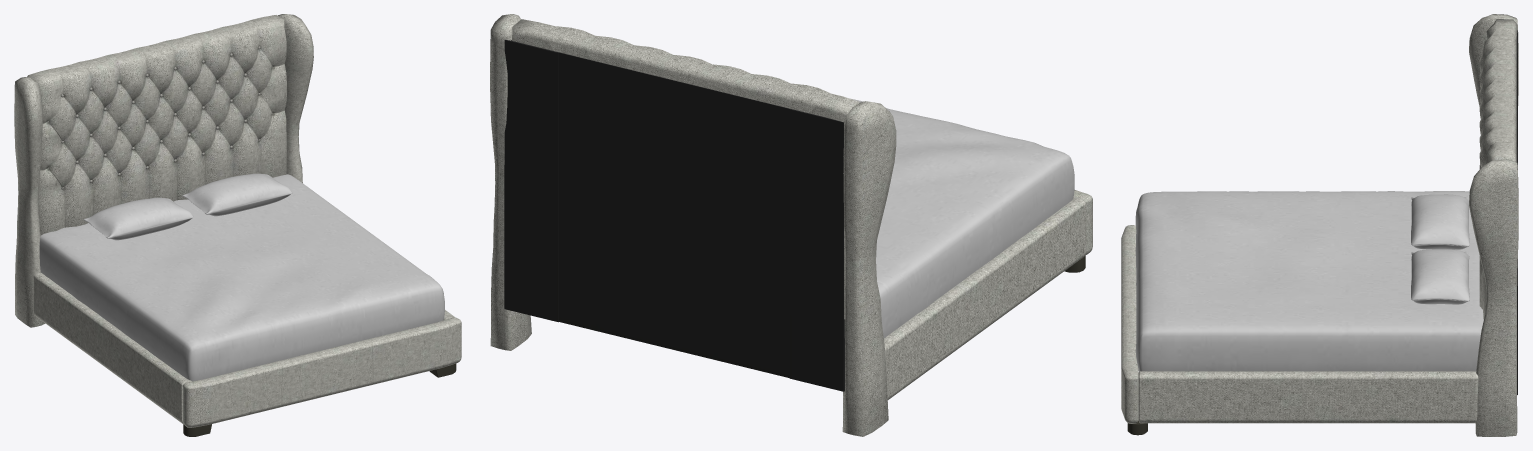
File: abo-B075QDMWTL.glb
3 views of the same model, side by side, from view 1: azimuth 30°, elevation 25°; view 2: azimuth 150°, elevation 25°; view 3: azimuth 270°, elevation 25° (orthographic). The views are drawn at different scales.
Size of the model in its own units: 2.22 by 1.77 by 2.35.
1 material, 1 textured.
